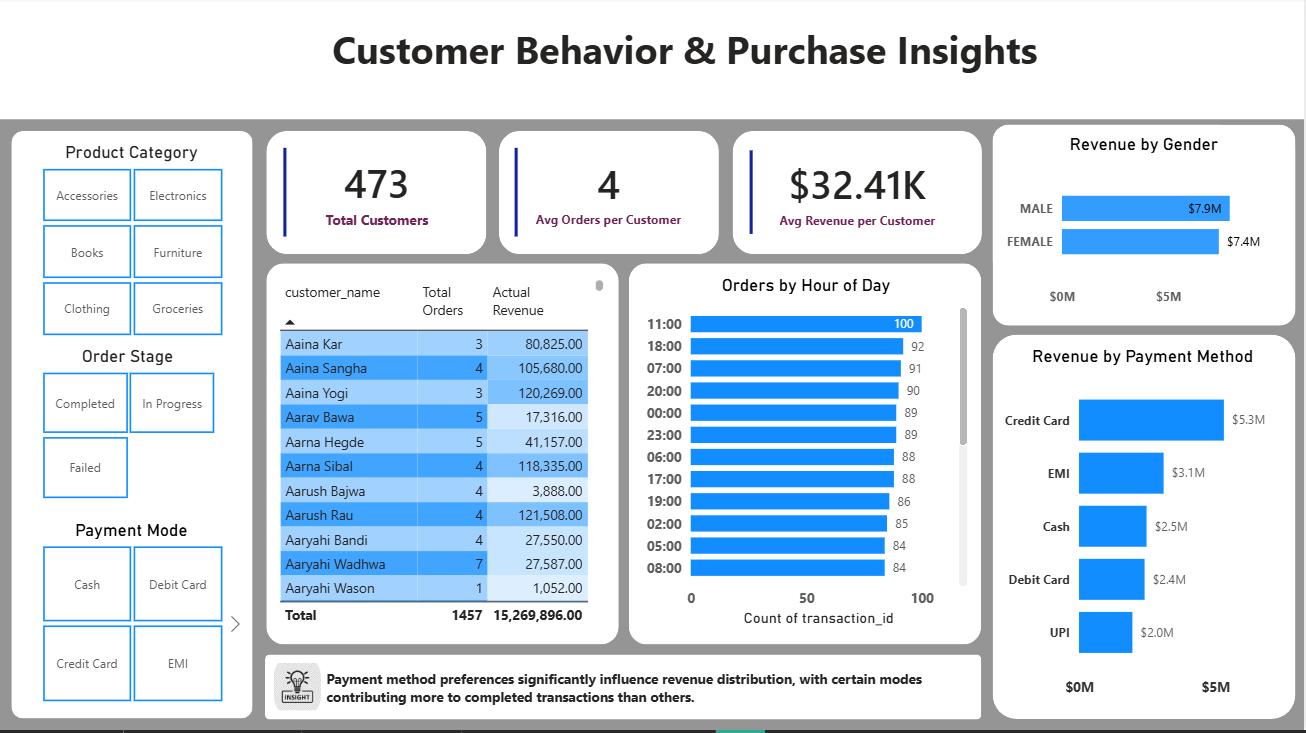

The page's visual inventory and layout, read from the dashboard file:
{"tool":"powerbi","page":{"name":"Customer & Behavior Analysis","canvas":[1280,720],"ordinal":2},"visuals":[{"type":"shape","title":"Revenue & Order Performance Overview","box":[0,0,1280,120],"z":0},{"type":"textbox","box":[147.1,21.4,1050,77.1],"z":1000},{"type":"shape","title":"Revenue & Order Performance Overview","box":[11.4,131.4,237.1,577.1],"z":2000},{"type":"shape","title":"Revenue & Order Performance Overview","box":[261.2,131.2,216.2,121.2],"z":3000},{"type":"shape","title":"Revenue & Order Performance Overview","box":[490,131.2,216.2,121.2],"z":4000},{"type":"shape","title":"Revenue & Order Performance Overview","box":[718.8,131.2,245,121.2],"z":5000},{"type":"shape","title":"Revenue & Order Performance Overview","box":[973.8,125,297.5,197.5],"z":6000},{"type":"cardVisual","fields":{"Data":["sales_clean.Total Customers"]},"box":[261.4,131.3,217.2,121.5],"z":7000},{"type":"cardVisual","fields":{"Data":["sales_clean.Avg Orders per Customer"]},"box":[488.3,131.3,218.4,121.5],"z":8000},{"type":"cardVisual","fields":{"Data":["sales_clean.Avg Revenue per Customer"]},"box":[718.8,133.8,245,116.2],"z":9000},{"type":"shape","title":"Revenue & Order Performance Overview","box":[261.4,261.4,346,374.2],"z":10000},{"type":"tableEx","fields":{"Values":["sales_clean.customer_name","sales_clean.Total Orders","sales_clean.Actual Revenue"]},"box":[268.7,272.4,328.8,350.9],"z":11000},{"type":"shape","title":"Revenue & Order Performance Overview","box":[617.2,261.4,346,374.2],"z":12000},{"type":"clusteredBarChart","title":"Orders by Hour of Day","fields":{"Category":["sales_clean.Hour Label"],"Y":["CountNonNull(sales_clean.transaction_id)"]},"box":[628.2,272.4,326.4,350.9],"z":13000},{"type":"shape","title":"Revenue & Order Performance Overview","box":[973.8,331.2,297.5,377.5],"z":14000},{"type":"clusteredBarChart","title":"Revenue by Payment Method","fields":{"Category":["sales_clean.payment_mode"],"Y":["Sum(sales_clean.actual_revenue)"]},"box":[980,342.5,282.5,355],"z":15000},{"type":"clusteredBarChart","title":"Revenue by Gender","fields":{"Category":["sales_clean.gender"],"Y":["Sum(sales_clean.actual_revenue)"]},"box":[981.2,133.8,282.5,178.8],"z":16000},{"type":"slicer","title":"Product Category","fields":{"Values":["sales_clean.product_category"]},"box":[16.2,142.5,226.2,196.2],"z":17000},{"type":"slicer","title":"Order Stage","fields":{"Values":["sales_clean.order_stage"]},"box":[16.2,342.5,218.8,156.2],"z":18000},{"type":"slicer","title":"Payment Mode","fields":{"Values":["sales_clean.payment_mode"]},"box":[16.2,512.5,226.2,185],"z":19000},{"type":"shape","title":"Revenue & Order Performance Overview","box":[260.1,644.2,703.1,63.8],"z":19001},{"type":"image","box":[268.7,644.2,46.6,65],"z":19002},{"type":"textbox","box":[315.3,655.2,639.3,52.8],"z":19003}]}

Visuals, with their boxes in screenshot pixels (x1, y1, x2, y2), scaled from the page's 1280x720 canvas onto the 1306x733 screenshot:
"Revenue & Order Performance Overview" shape: [x1=0, y1=0, x2=1305, y2=122]
textbox: [x1=150, y1=22, x2=1221, y2=100]
"Revenue & Order Performance Overview" shape: [x1=12, y1=134, x2=254, y2=721]
"Revenue & Order Performance Overview" shape: [x1=267, y1=134, x2=487, y2=257]
"Revenue & Order Performance Overview" shape: [x1=500, y1=134, x2=721, y2=257]
"Revenue & Order Performance Overview" shape: [x1=733, y1=134, x2=983, y2=257]
"Revenue & Order Performance Overview" shape: [x1=994, y1=127, x2=1297, y2=328]
cardVisual - sales_clean.Total Customers: [x1=267, y1=134, x2=488, y2=257]
cardVisual - sales_clean.Avg Orders per Customer: [x1=498, y1=134, x2=721, y2=257]
cardVisual - sales_clean.Avg Revenue per Customer: [x1=733, y1=136, x2=983, y2=255]
"Revenue & Order Performance Overview" shape: [x1=267, y1=266, x2=620, y2=647]
tableEx - sales_clean.customer_name x sales_clean.Total Orders: [x1=274, y1=277, x2=610, y2=635]
"Revenue & Order Performance Overview" shape: [x1=630, y1=266, x2=983, y2=647]
"Orders by Hour of Day" clusteredBarChart: [x1=641, y1=277, x2=974, y2=635]
"Revenue & Order Performance Overview" shape: [x1=994, y1=337, x2=1297, y2=721]
"Revenue by Payment Method" clusteredBarChart: [x1=1000, y1=349, x2=1288, y2=710]
"Revenue by Gender" clusteredBarChart: [x1=1001, y1=136, x2=1289, y2=318]
"Product Category" slicer: [x1=17, y1=145, x2=247, y2=345]
"Order Stage" slicer: [x1=17, y1=349, x2=240, y2=508]
"Payment Mode" slicer: [x1=17, y1=522, x2=247, y2=710]
"Revenue & Order Performance Overview" shape: [x1=265, y1=656, x2=983, y2=721]
image: [x1=274, y1=656, x2=322, y2=722]
textbox: [x1=322, y1=667, x2=974, y2=721]
